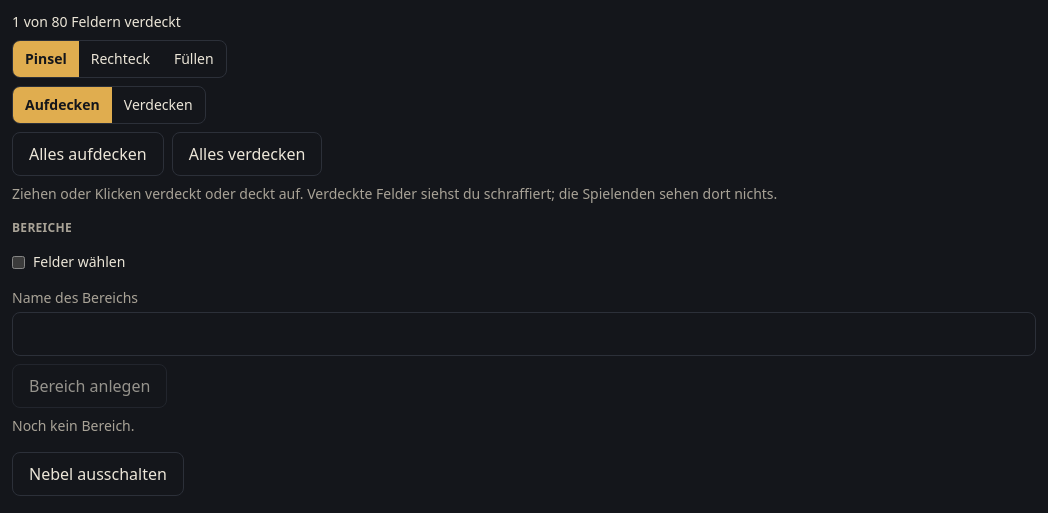
Test: the Nebel panel › reveals all and hides all
Expected: the button "Alles verdecken" is enabled, [172, 132, 322, 176]
Click the button "Alles aufdecken": x=88, y=154 [12, 132, 164, 176]
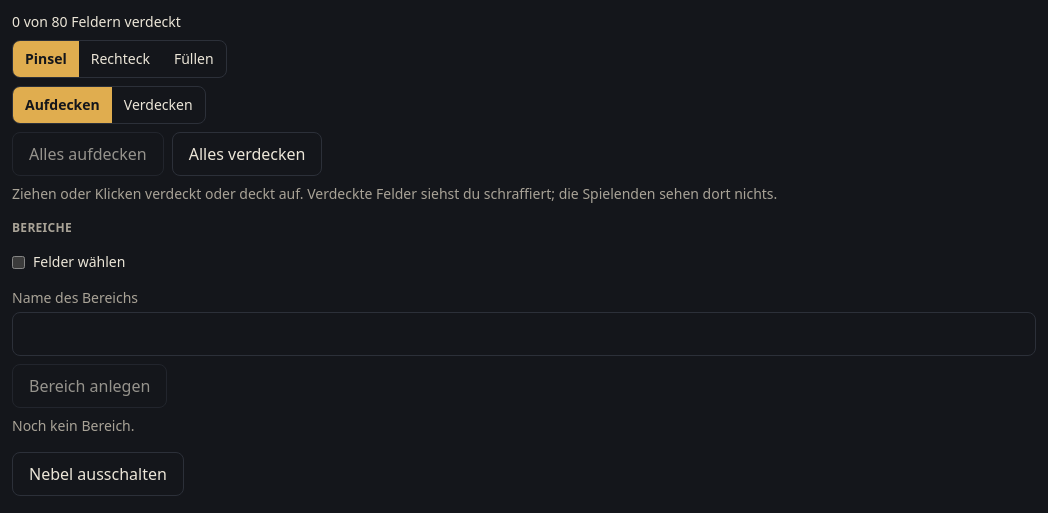
Expected: the button "Alles aufdecken" is disabled, [12, 132, 164, 176]
Click the button "Alles verdecken": x=247, y=154 [172, 132, 322, 176]
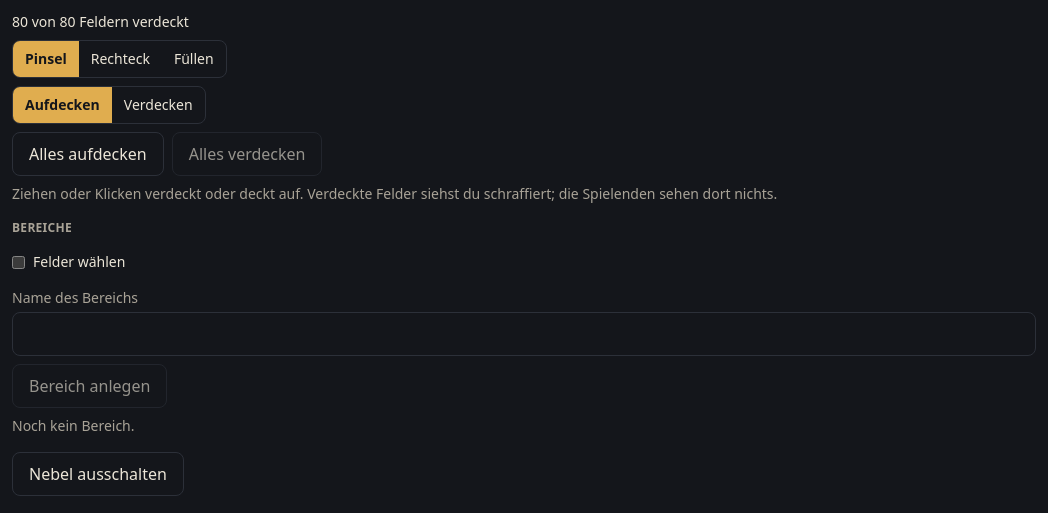
Expected: the button "Alles verdecken" is disabled, [172, 132, 322, 176]
